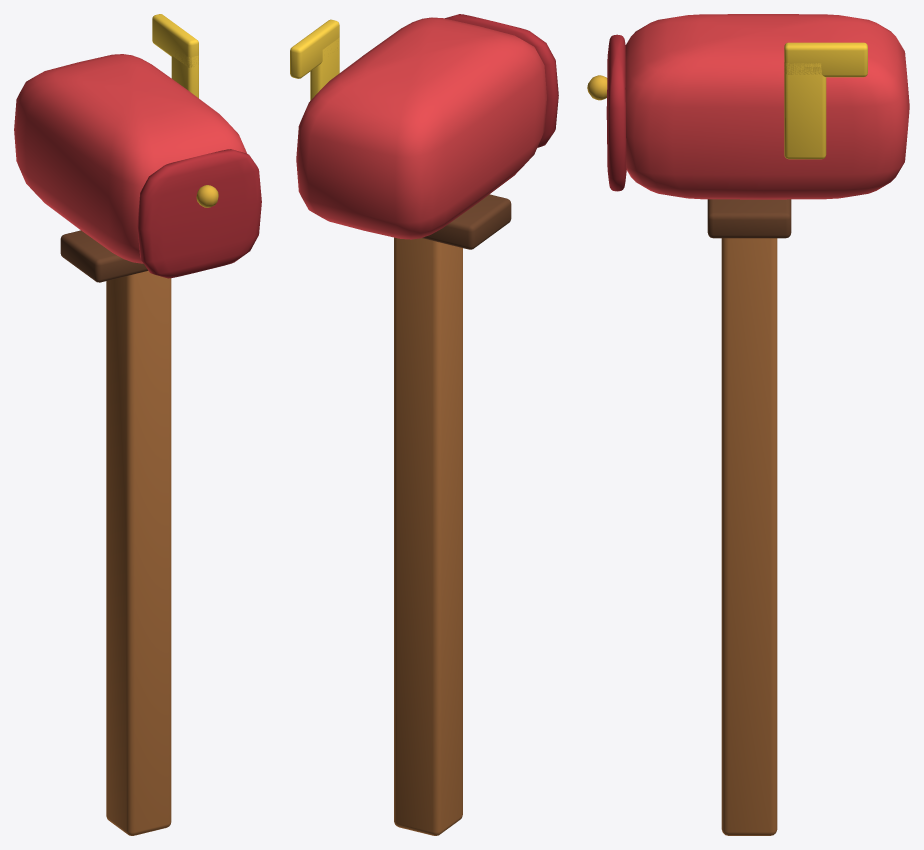
File: caixa_correio.glb
3 renders of one model, left to right at view 1: azimuth 30°, elevation 25°; view 2: azimuth 150°, elevation 25°; view 3: azimuth 270°, elevation 25°, orthographic. The views are drawn at different scales.
Parts seen in each view (by area): view 1: caixa_correio, porta_1; view 2: caixa_correio, porta_1; view 3: caixa_correio, porta_1.
Part boxes in pixels (x1,y1,x2,y2): caixa_correio: (14,14,247,835); porta_1: (137,149,261,278); caixa_correio: (290,17,546,835); porta_1: (445,14,558,147); caixa_correio: (625,14,909,835); porta_1: (587,34,626,191).
Size of the model in its own units: 0.26 by 1.3 by 0.463.
1 material, 1 textured.
